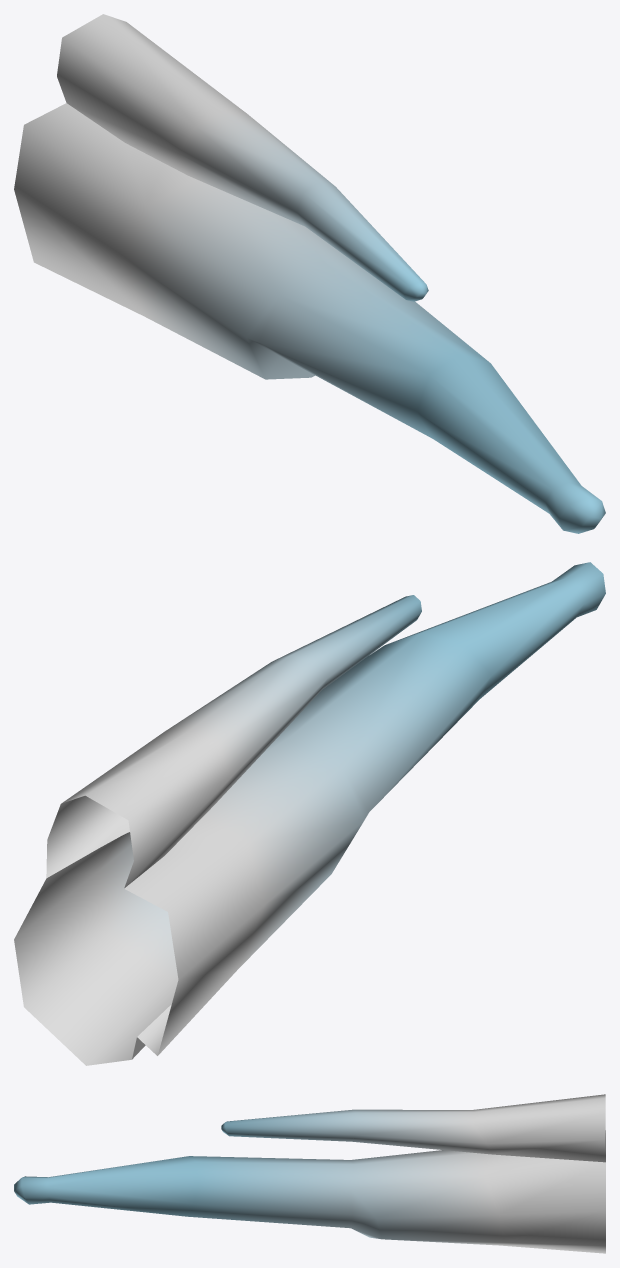
The model's file is Stalactites_IceB.glb.
The picture shows the model from 3 angles, top to bottom: view 1: azimuth 30°, elevation 25°; view 2: azimuth 150°, elevation 25°; view 3: azimuth 270°, elevation 25°; orthographic projection. The views are drawn at different scales.
Visible parts, largest first — view 1: MeshNode_0; view 2: MeshNode_0; view 3: MeshNode_0.
Boxes of the visible parts, x1,y1,x2,y2 form: MeshNode_0: (14, 14, 605, 533); MeshNode_0: (14, 562, 605, 1065); MeshNode_0: (14, 1094, 605, 1253).
Size of the model in its own units: 1.53 by 2.16 by 7.45.
